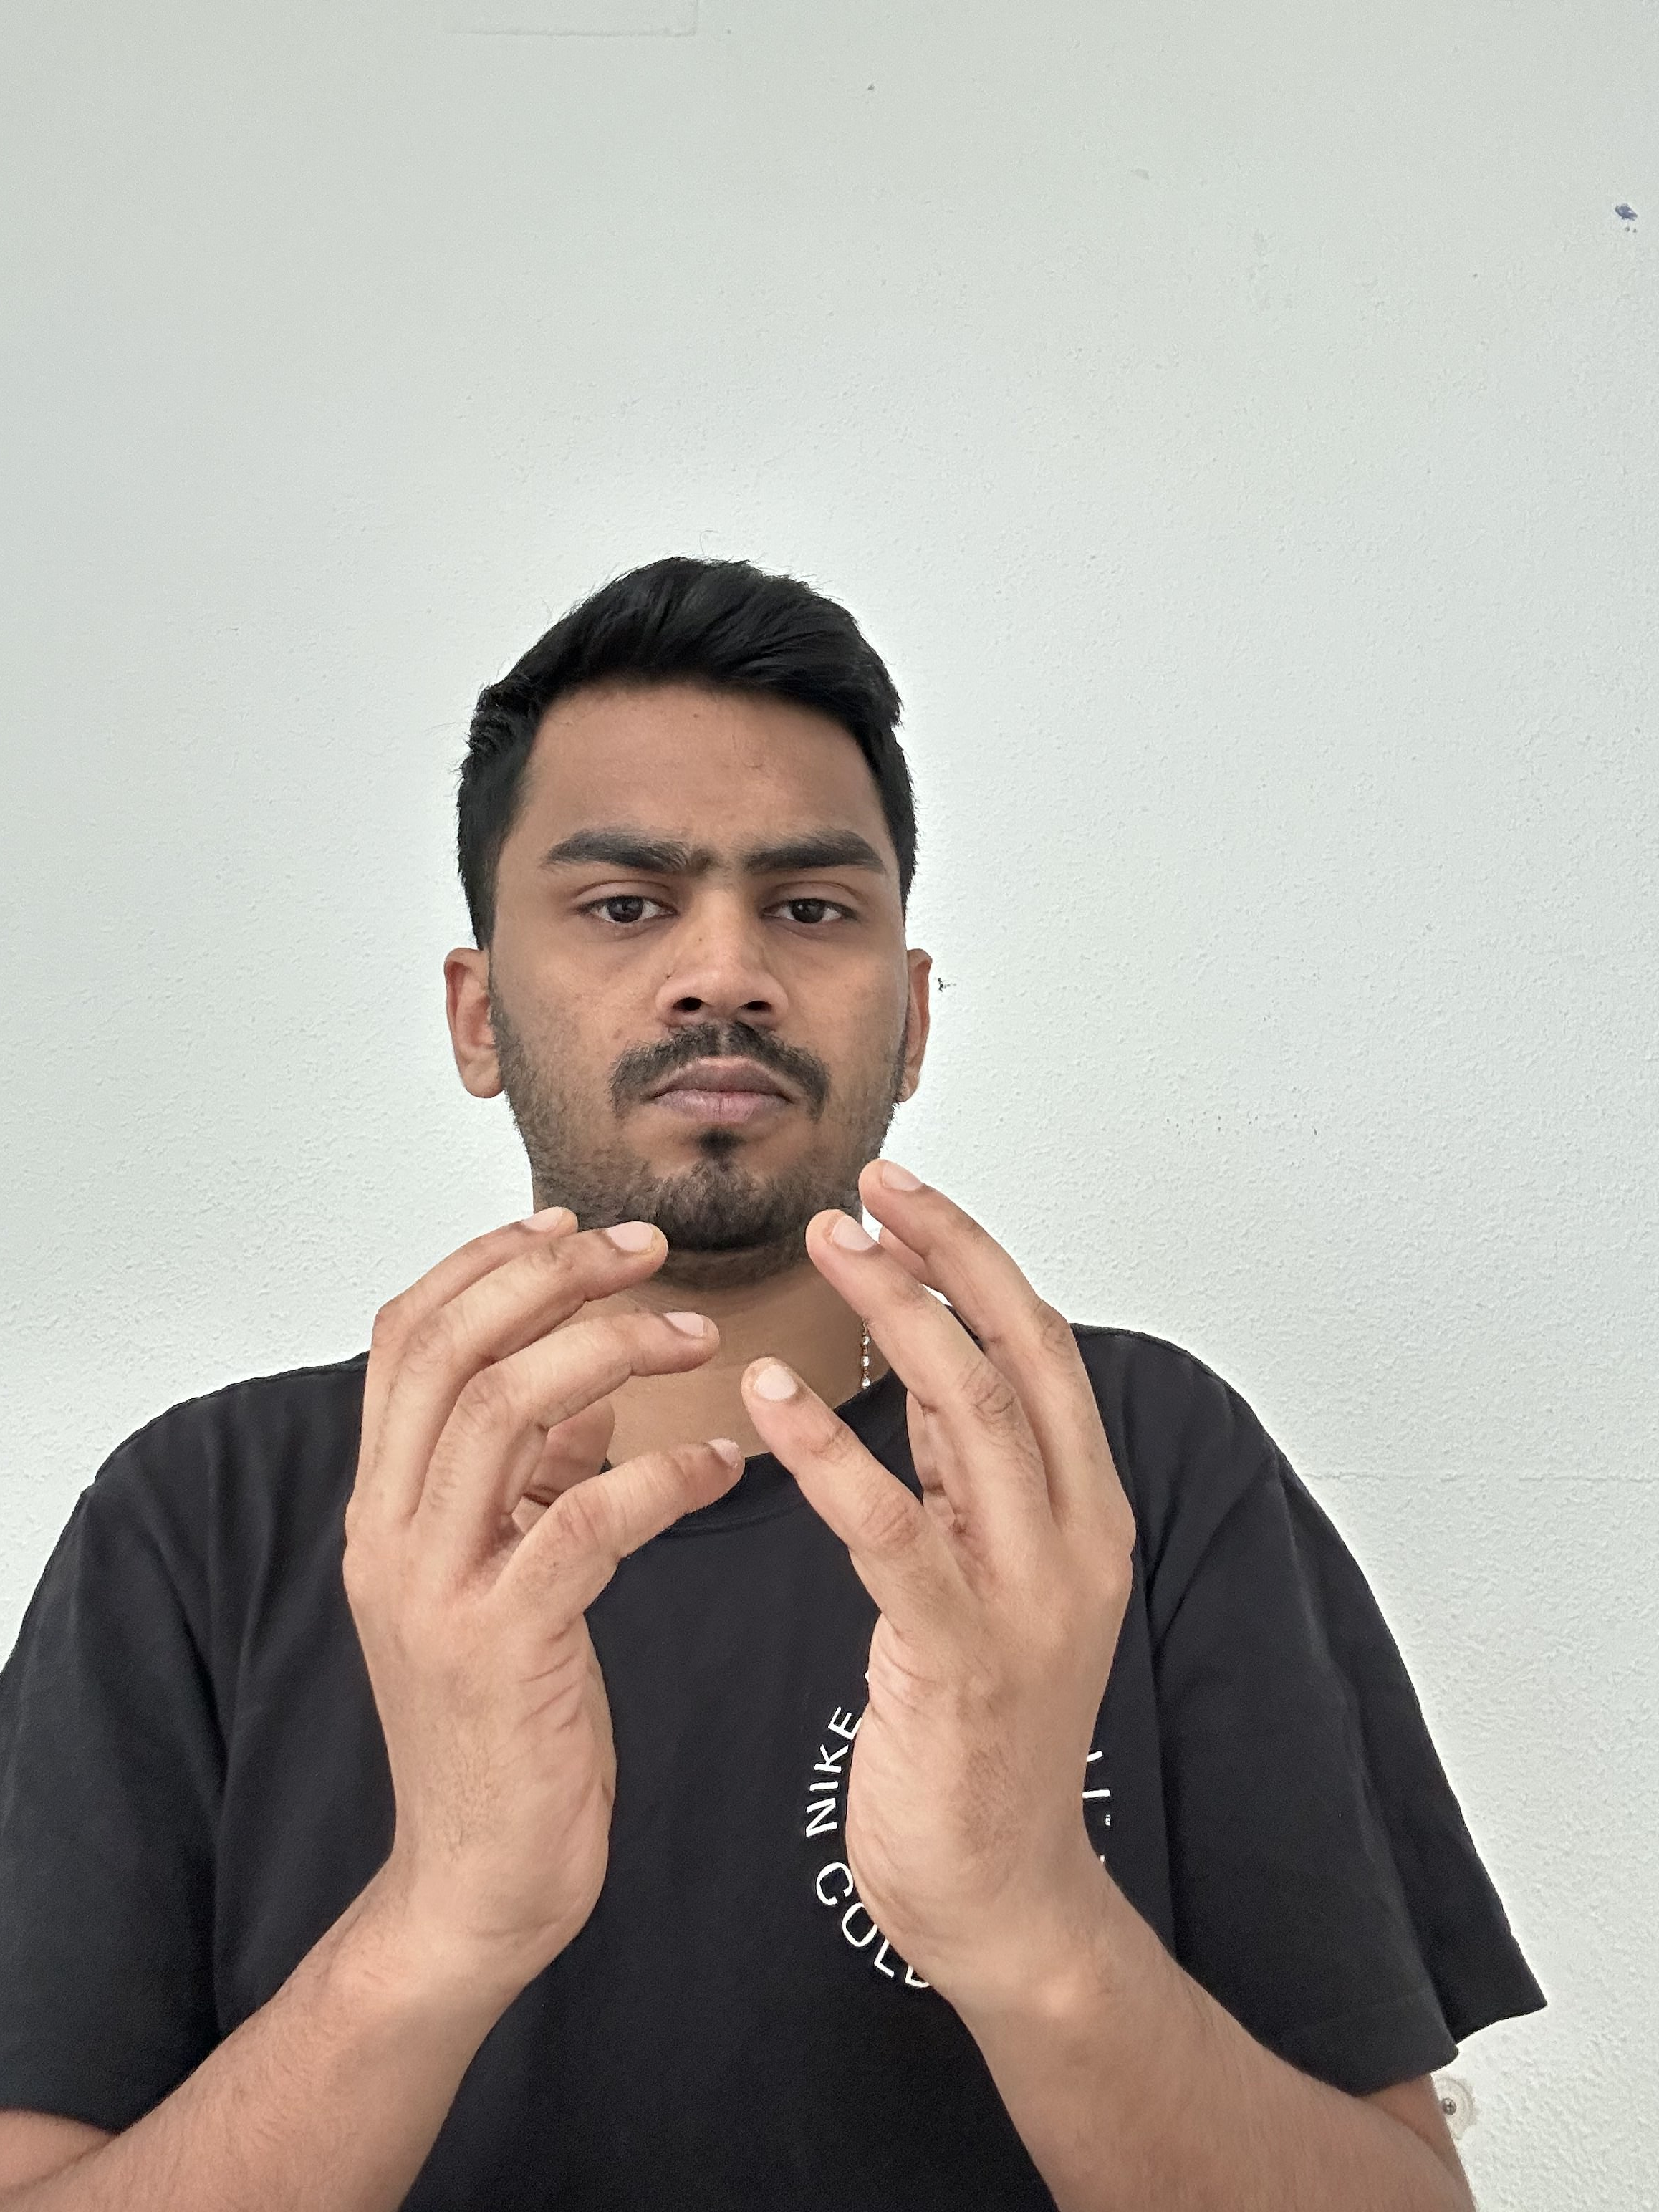group: (3, 550, 1547, 2207)
